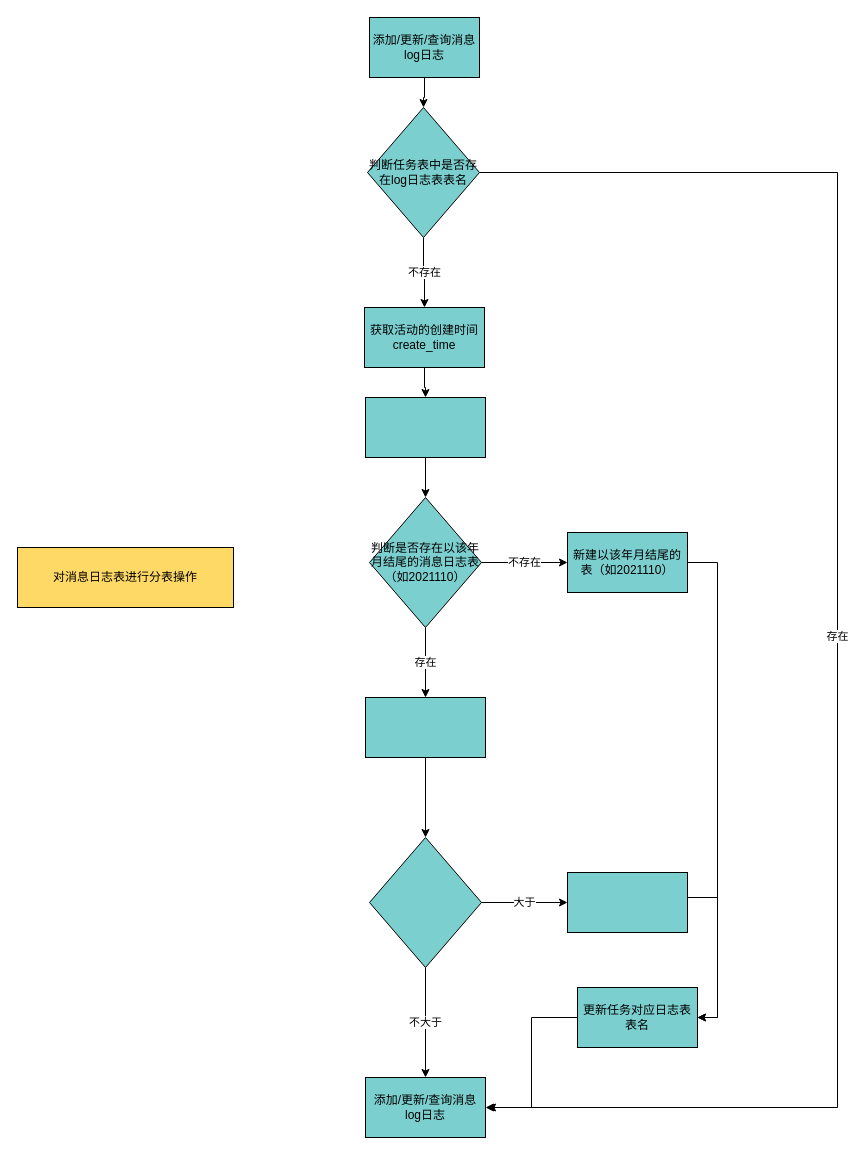
Image size: 866x1155. Some labels were removed from this diagram. Each missing label, with the centre of its shape:
"判断当前表的数量是否大于50w（nacos配置项）" goes at [425,902].
"新建表，后缀加1（如2021111）" goes at [627,902].
"根据创建时间截取以UTC为时区的年月" goes at [425,427].
"获取后缀最大的表" goes at [425,727].
